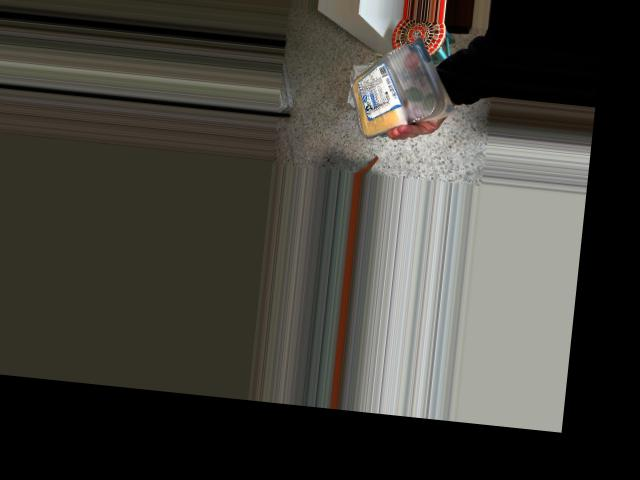cheese: (338, 29, 453, 132)
